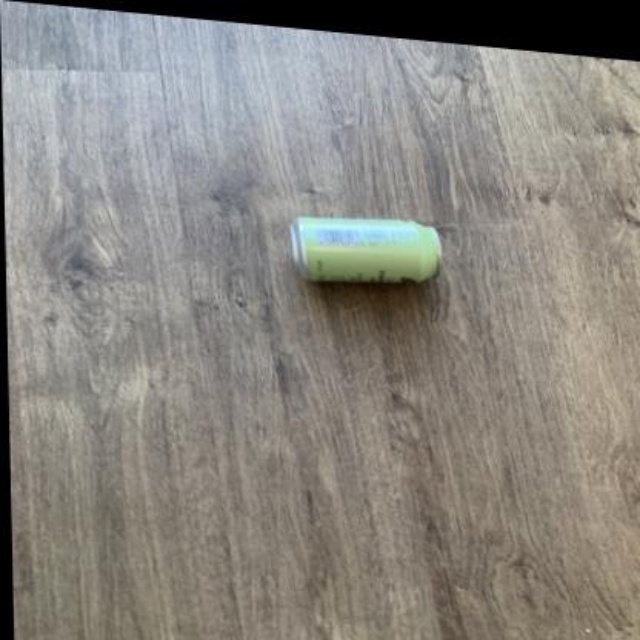trash: (291, 217, 440, 282)
